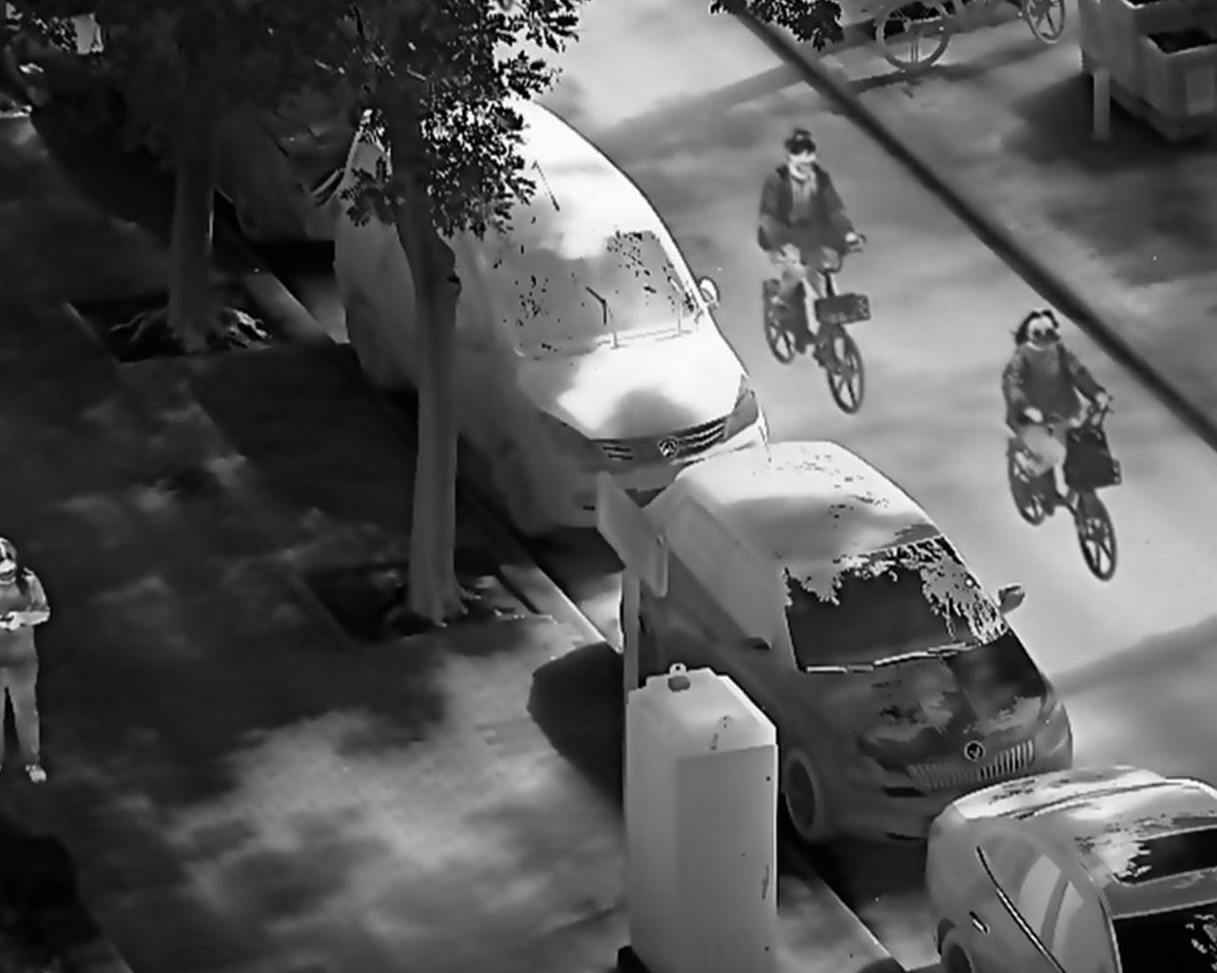person: (758, 124, 870, 365), (1004, 305, 1117, 513)
